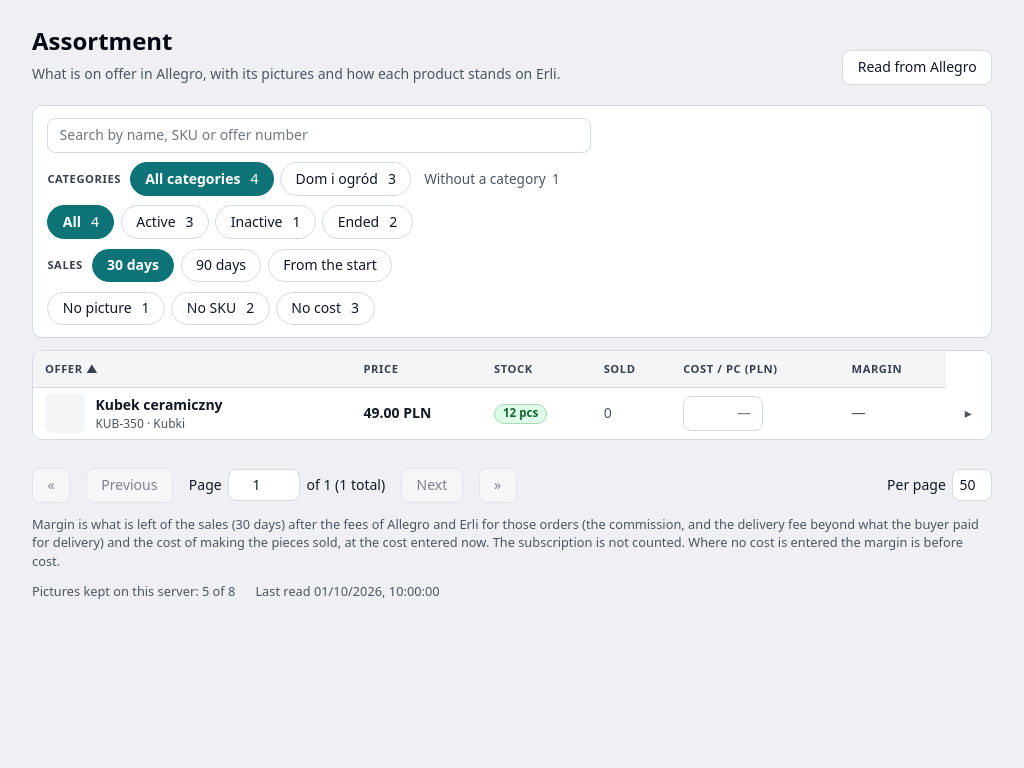
CatalogPage › says an offer has no pictures
Click the button named "Kubek ceramiczny": (968, 413) [958, 401, 979, 425]
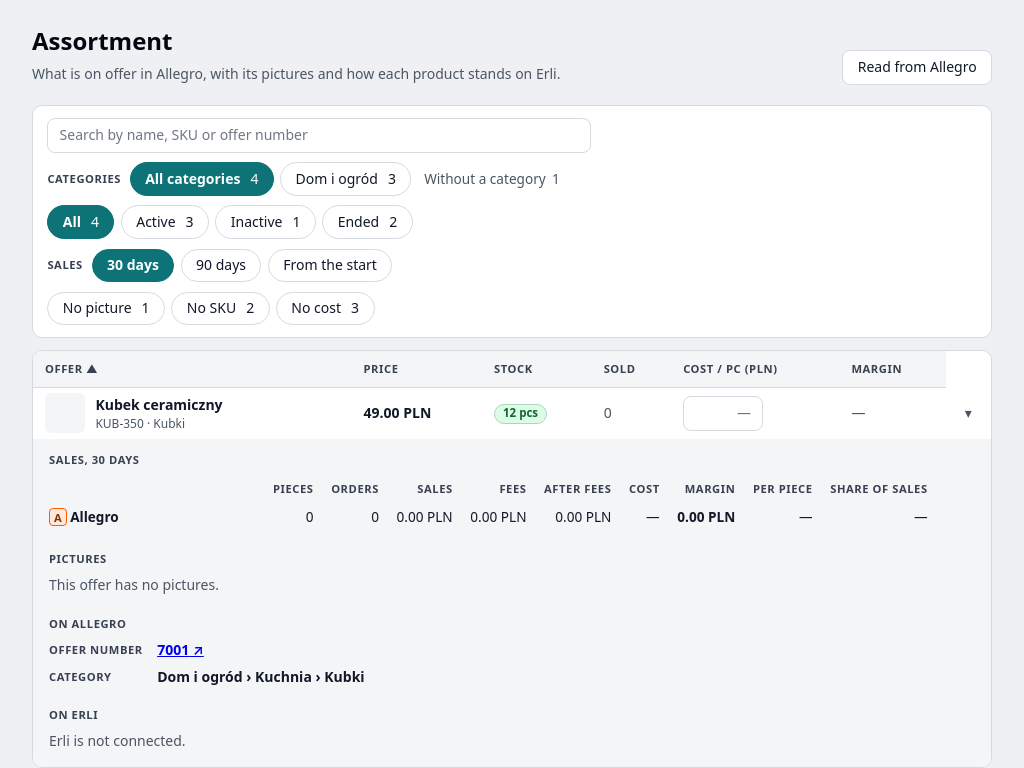
Now the text "This offer has no pictures." is shown, box [49, 575, 219, 594]
